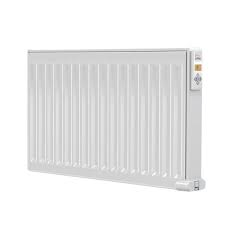Radiator: (26, 48, 207, 192)
